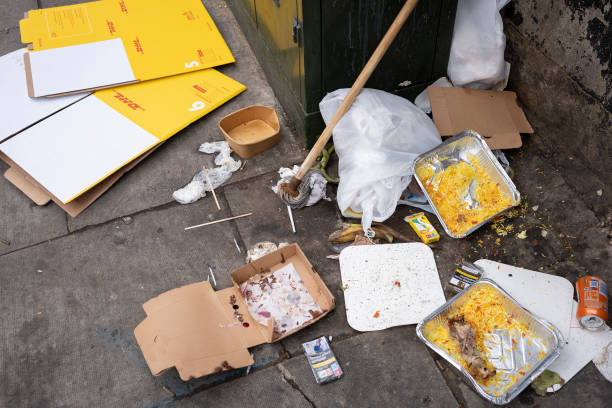General waste: (0, 0, 434, 184), (115, 217, 344, 402), (413, 256, 567, 408), (402, 123, 528, 245), (215, 97, 289, 167), (475, 407, 475, 408)
metal: (571, 273, 611, 340)
paper: (3, 3, 250, 221), (319, 221, 454, 338), (415, 65, 549, 159)
plastic: (315, 68, 445, 242), (440, 0, 533, 95)
